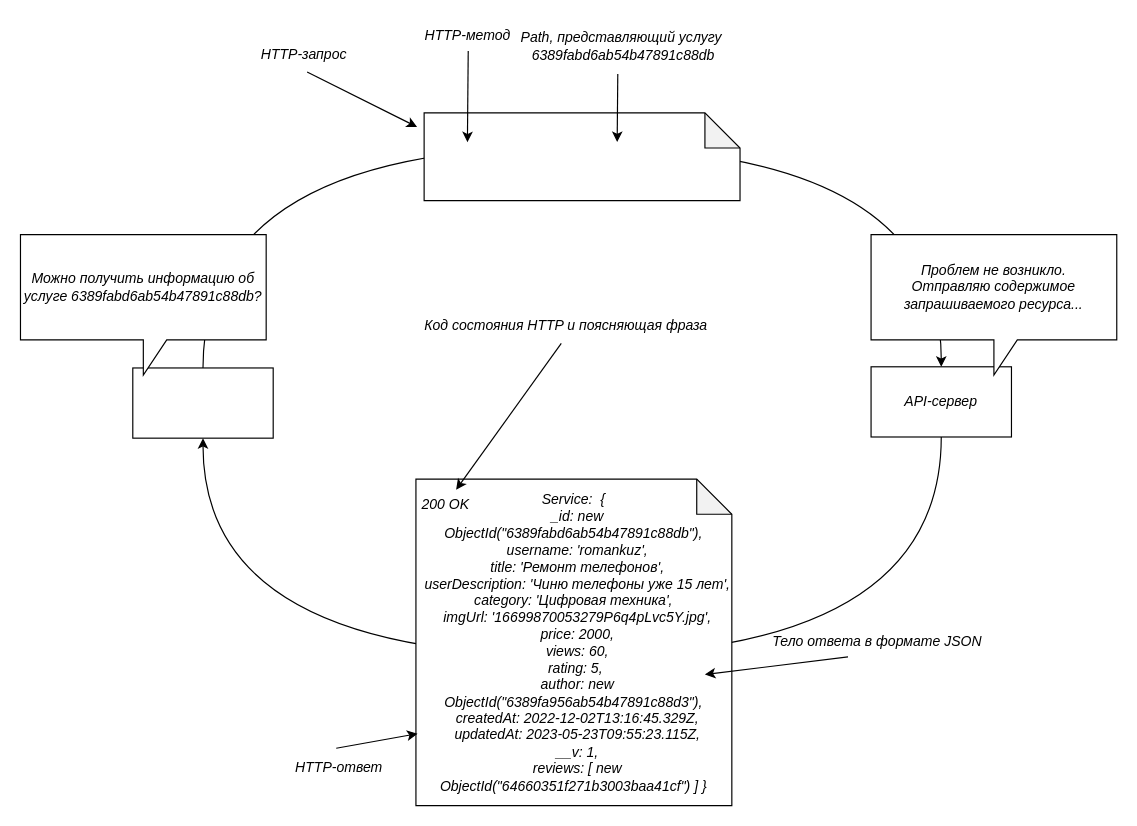
Image size: 1137x826. Some labels were removed from this diagram. The centre of each missing label's shape, as x and y in pixels:
"GET /services/6389fabd6ab54b47891c88db" belongs at pixel 581 156.
"Клиент" belongs at pixel 202 402.
